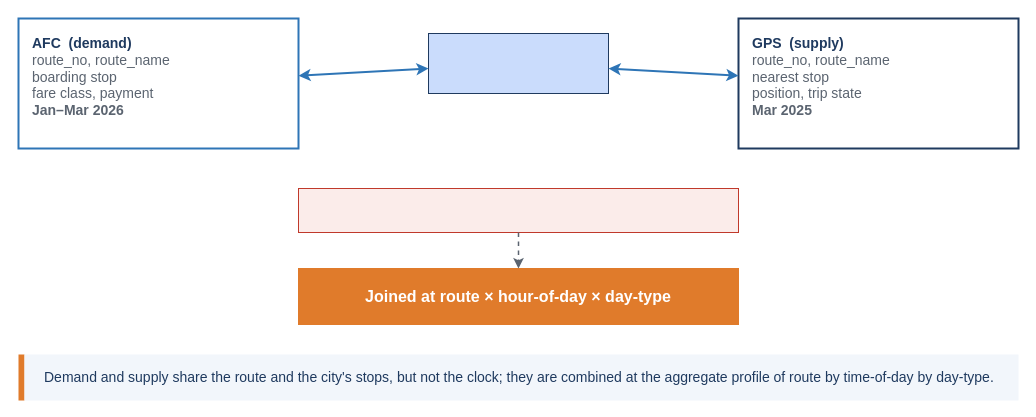
Image size: 1036x417. Some labels were removed from this diagram. The shapes that lost their labels are listed below. From the top down, each one's box as (x1, y1, x2, y2) in pixels, then its label:
(428, 32, 608, 94): route_no the one shared key
(298, 188, 738, 232): no timestamp join , the two windows are a year apart
